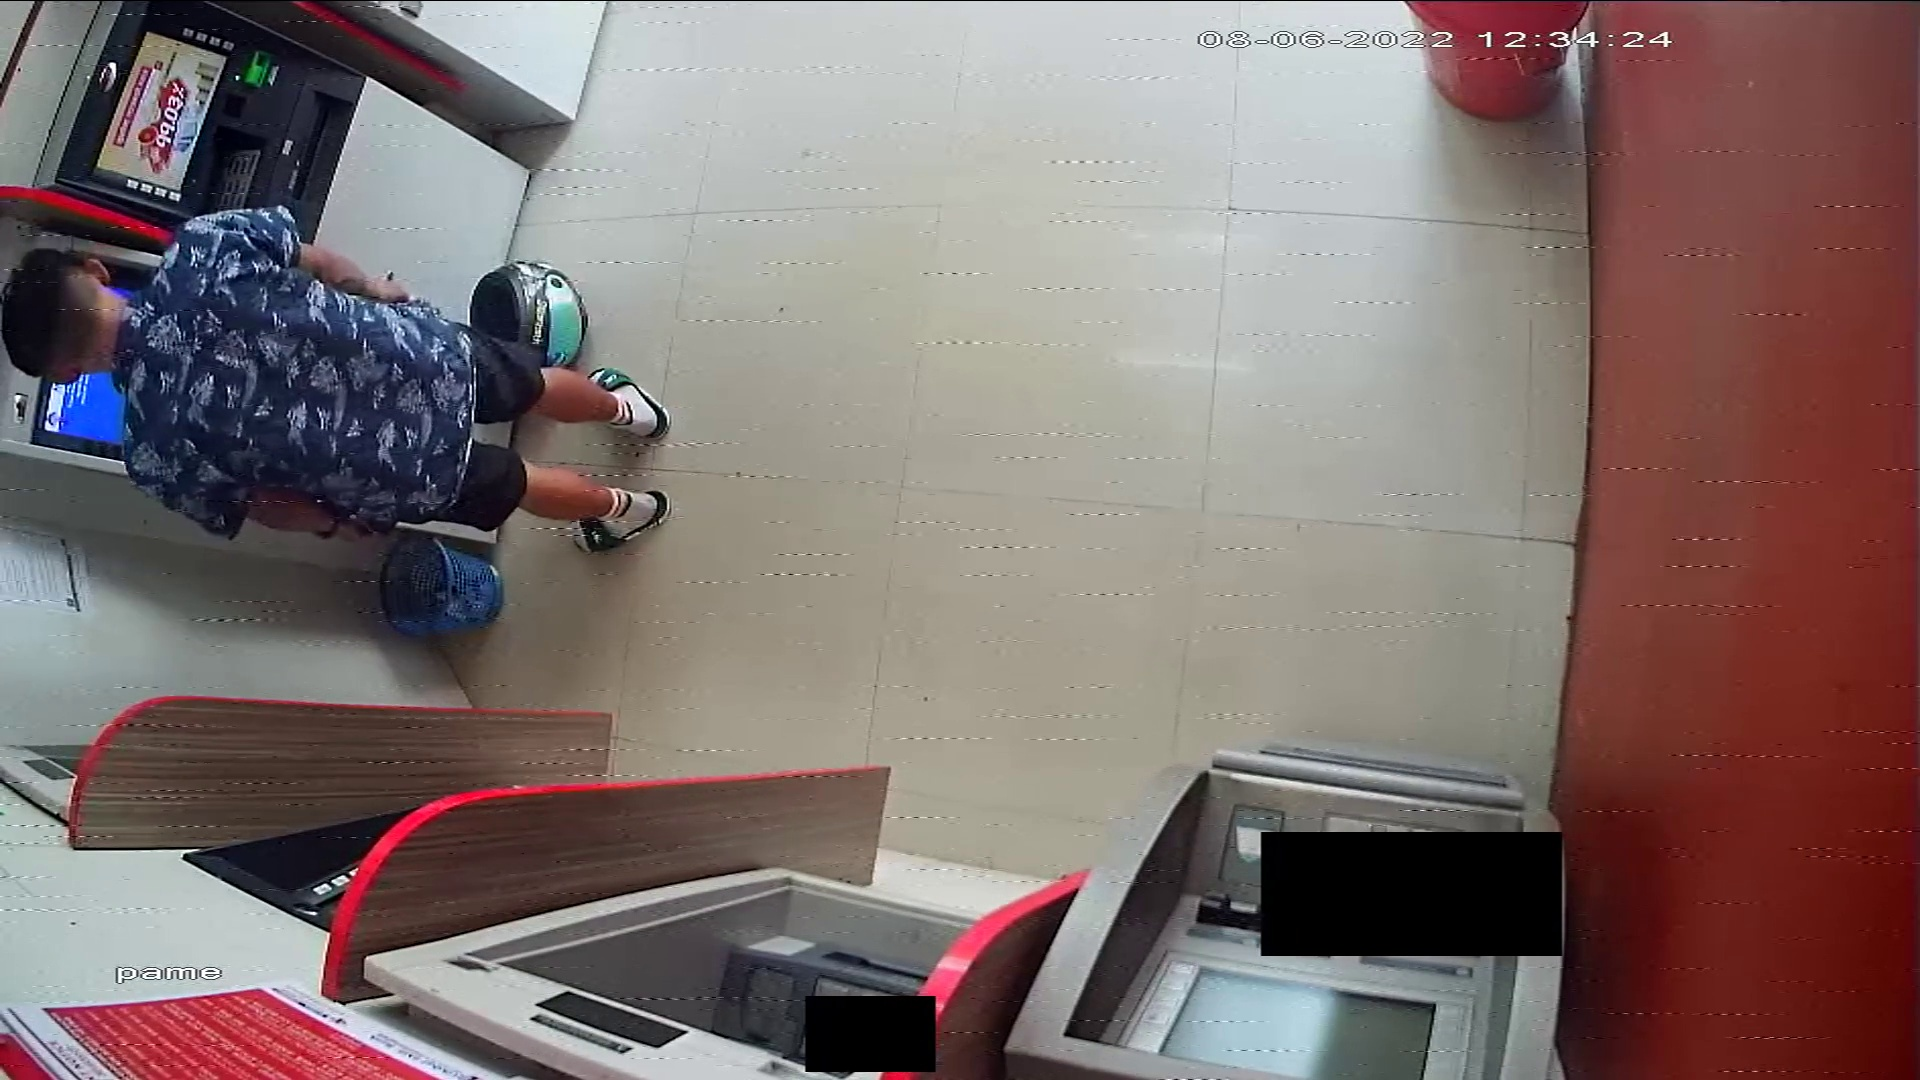helmet: (469, 258, 591, 368)
person: (1, 200, 677, 556)
